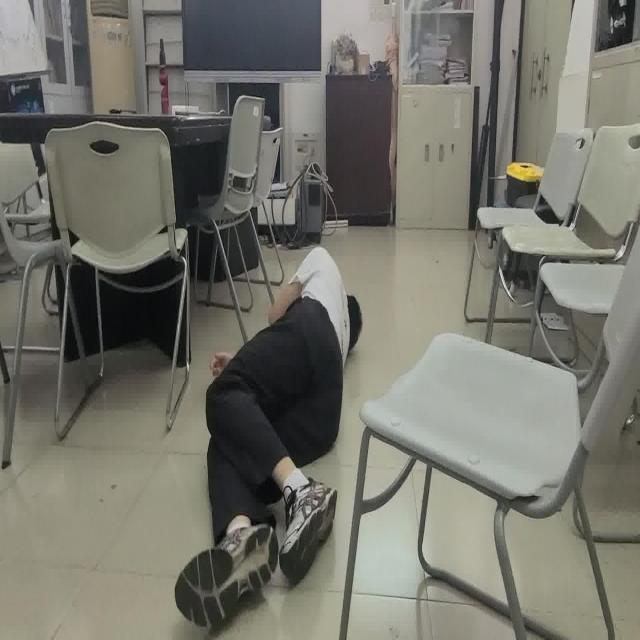Fall-Detected: (168, 241, 368, 637)
